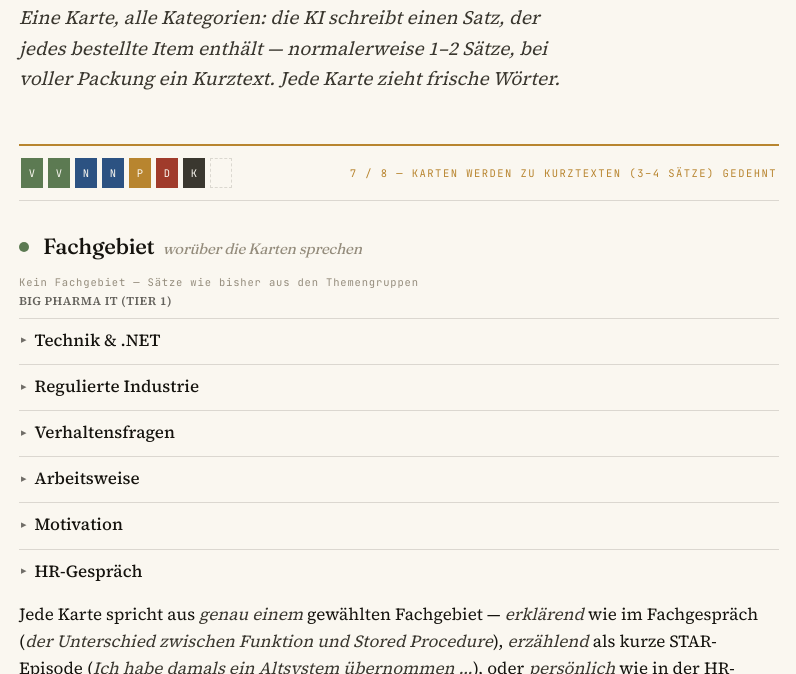
Fachgebiet › verbSummary explains the unrestricted pool while a Fachgebiet is active, and is unchanged otherwise
(page scrolled)
Expected: the element with class "sna-sum-t" does not show "Fachgebiet aktiv"
Click the button with class "kat-sec-h" showing "▸ Technik & .NET": click(97, 340) top-left (19, 319), bottom-right (779, 362)
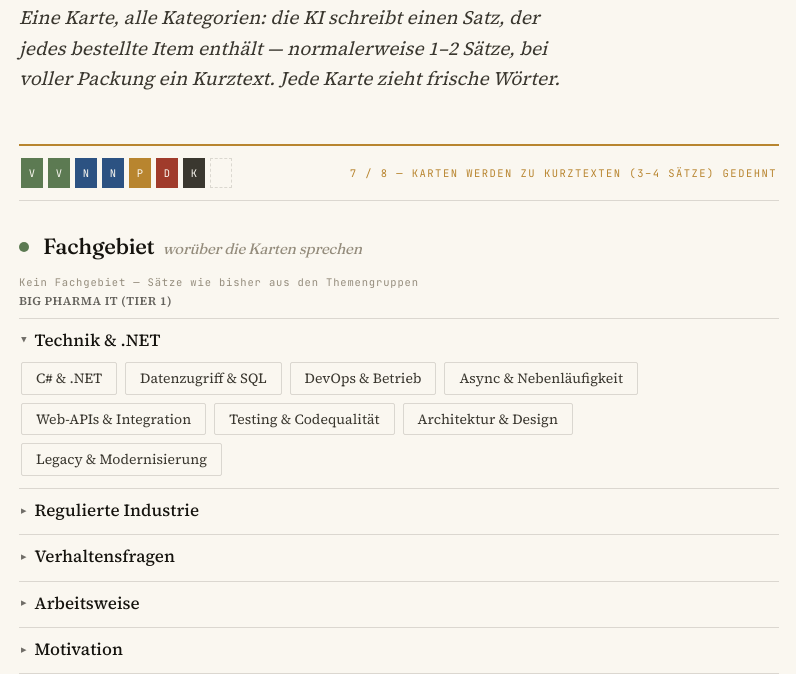
Click the button with class "chip" showing "DevOps & Betrieb": click(363, 378) top-left (290, 362), bottom-right (436, 395)
(page scrolled)
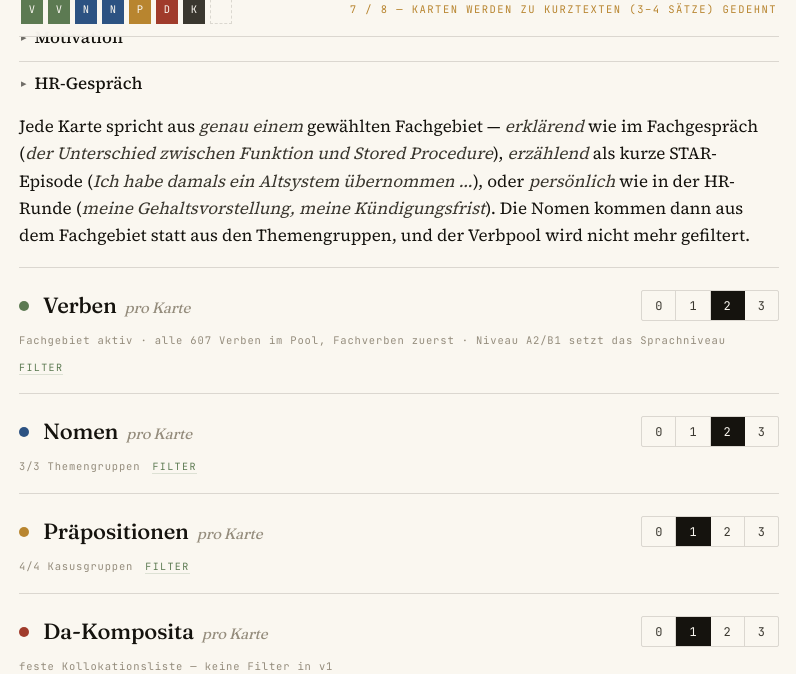
Expected: the text with class "sna-sum-t" shows "Fachgebiet aktiv", top-left (19, 333), bottom-right (726, 347)
